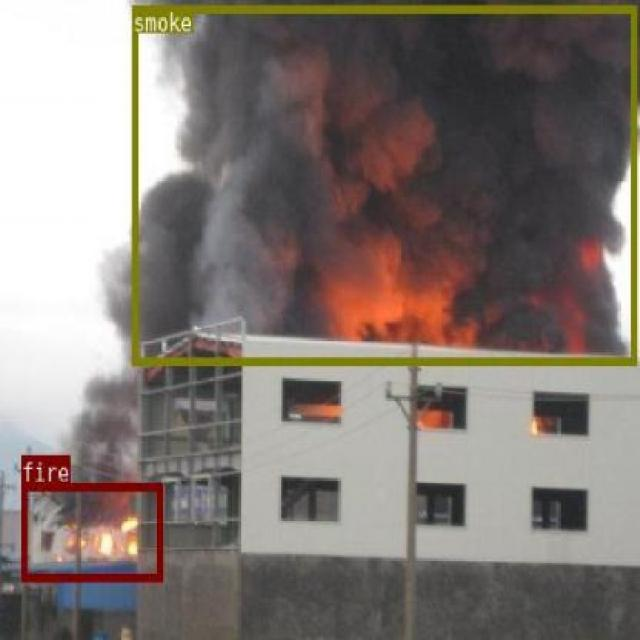Fire: (21, 480, 161, 580)
Smoke: (130, 5, 636, 362)
